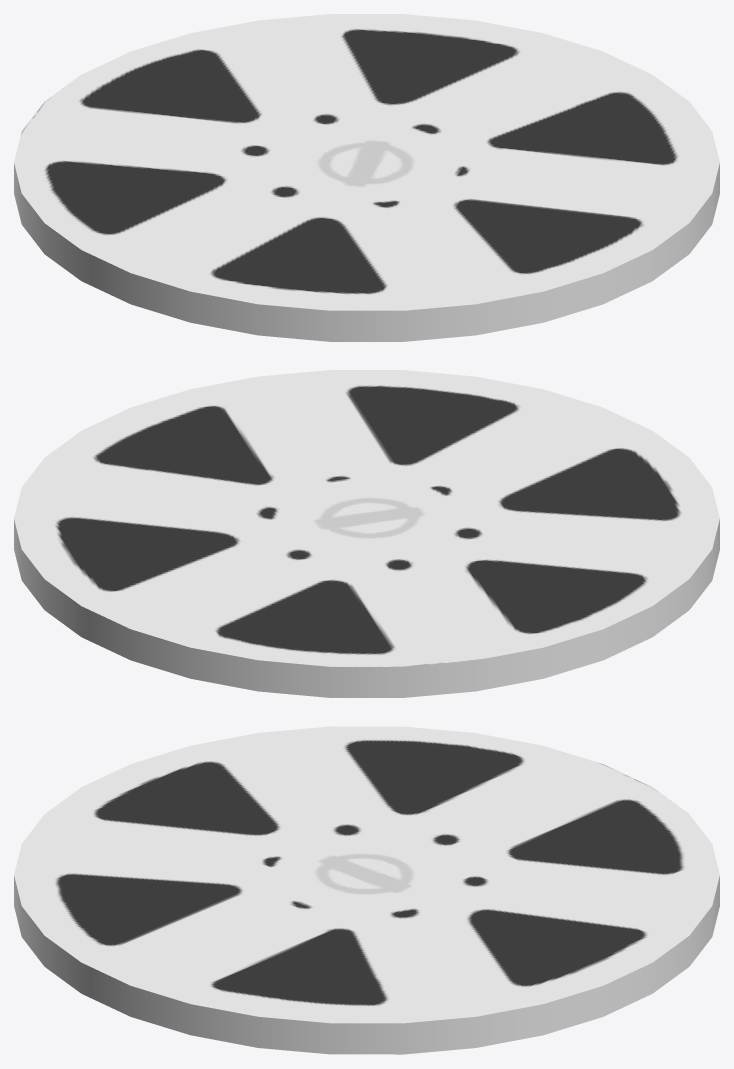
Rendered from suv_rim.obj.
3 views of the same model, one above another, from view 1: azimuth 30°, elevation 25°; view 2: azimuth 150°, elevation 25°; view 3: azimuth 270°, elevation 25° (orthographic).
Parts seen in each view (by area): view 1: Nissan_Wheel_OBJ_0331; view 2: Nissan_Wheel_OBJ_0331; view 3: Nissan_Wheel_OBJ_0331.
Boxes of the visible parts, x1=… form: Nissan_Wheel_OBJ_0331: x1=14, y1=14, x2=719, y2=341; Nissan_Wheel_OBJ_0331: x1=14, y1=370, x2=719, y2=697; Nissan_Wheel_OBJ_0331: x1=14, y1=726, x2=719, y2=1054.
Bounding box in the file's own units: 0.5066 × 0.0249 × 0.5094.
Materials: 1 (1 with a texture image).
